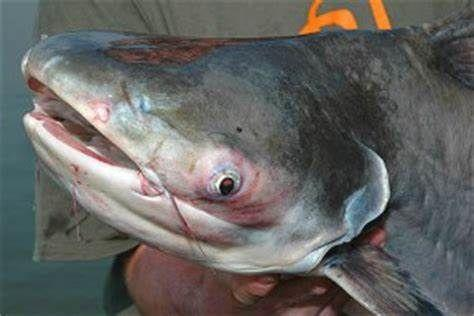Pangasius: (19, 18, 473, 293)
